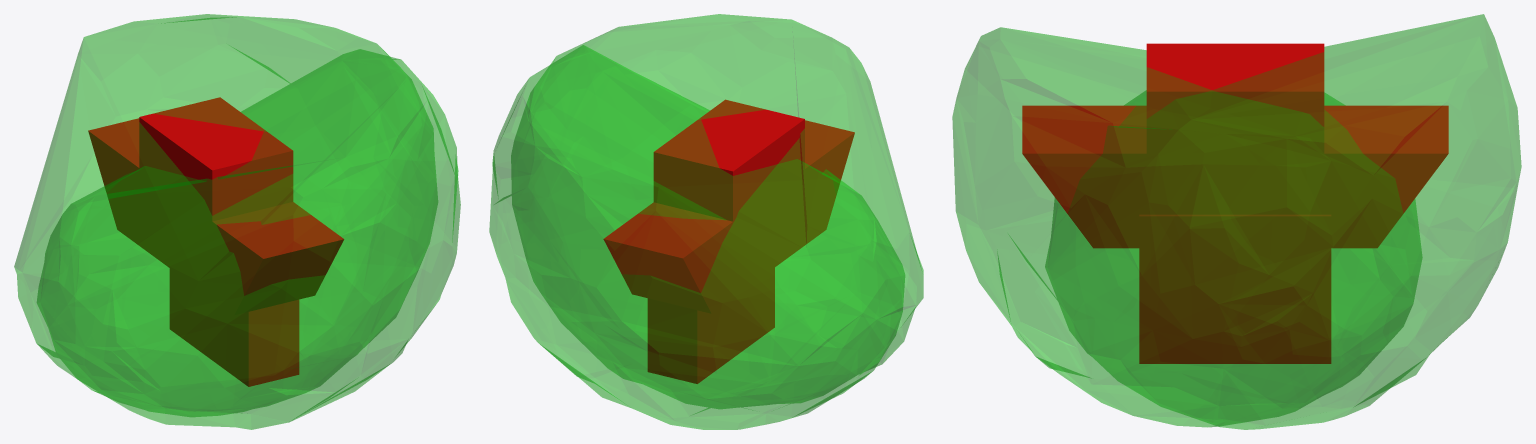
File: talos_trunk_lower_visual_large.dae
3 renders of one model, left to right at view 1: azimuth 30°, elevation 25°; view 2: azimuth 150°, elevation 25°; view 3: azimuth 270°, elevation 25°, orthographic. The views are drawn at different scales.
Visible parts, largest first — view 1: Talos_Lleg_Rom, Talos_Rleg_Rom, Talos_Trunk_Lower_Large; view 2: Talos_Rleg_Rom, Talos_Lleg_Rom, Talos_Trunk_Lower_Large; view 3: Talos_Lleg_Rom, Talos_Rleg_Rom, Talos_Trunk_Lower_Large.
Boxes of the visible parts, <box> form: Talos_Lleg_Rom: <box>14,14,437,416</box>; Talos_Rleg_Rom: <box>37,49,460,429</box>; Talos_Trunk_Lower_Large: <box>88,97,344,386</box>; Talos_Rleg_Rom: <box>511,14,923,408</box>; Talos_Lleg_Rom: <box>489,45,904,429</box>; Talos_Trunk_Lower_Large: <box>603,99,854,383</box>; Talos_Lleg_Rom: <box>1045,14,1521,429</box>; Talos_Rleg_Rom: <box>952,27,1422,427</box>; Talos_Trunk_Lower_Large: <box>1022,43,1448,363</box>.
Size of the model in its own units: 1.49 by 1.6 by 1.18.
